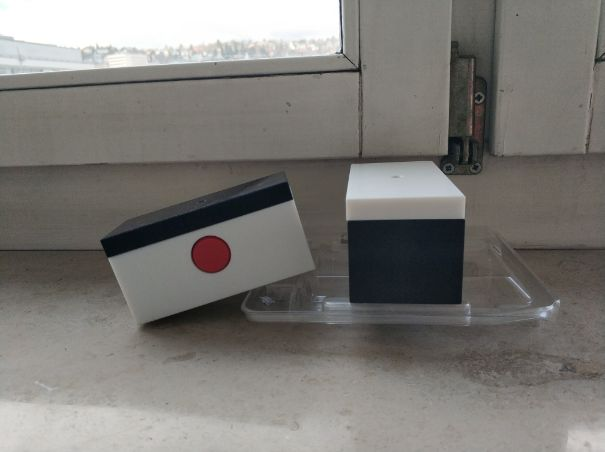black+white+red: (98, 170, 320, 331)
